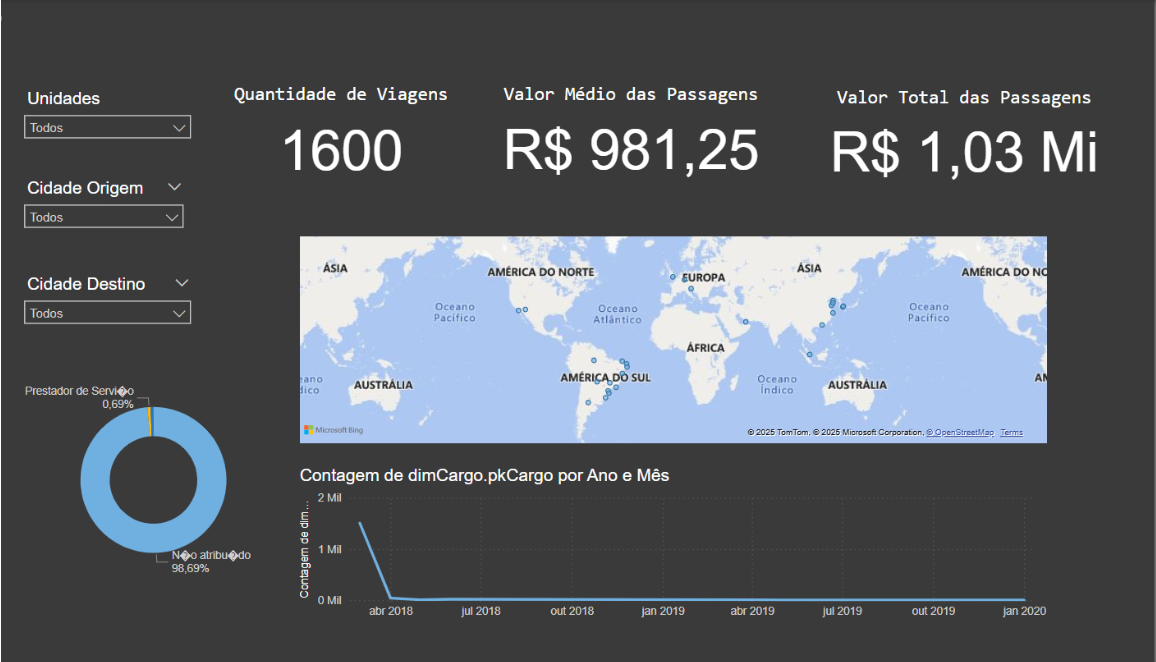

The page's visual inventory and layout, read from the dashboard file:
{"tool":"powerbi","page":{"name":"Página 1","canvas":[1280,720],"ordinal":0},"visuals":[{"type":"card","title":"Valor Total das Passagens","fields":{"Values":["Sum(fatoValorPassagem.Valor de Passagem Aerea (R$))"]},"box":[895.4,93.9,358.7,108],"z":0},{"type":"card","title":"Quantidade de Viagens","fields":{"Values":["CountNonNull(fatoValorPassagem.dimCargo.pkCargo)"]},"box":[233.8,90.3,335.6,111.6],"z":1000},{"type":"slicer","fields":{"Values":["dimUnidade.unidade"]},"box":[49.6,90.3,200.1,70.8],"z":2000},{"type":"actionButton","box":[0,0,100,40],"z":3000},{"type":"card","title":"Valor Médio das Passagens","fields":{"Values":["Avg(fatoValorPassagem.Valor de Passagem Aerea (R$))"]},"box":[544.6,90.3,341,108.9],"z":4000},{"type":"slicer","fields":{"Values":["dimCidade.cidade"]},"box":[49.6,186.9,192.2,77],"z":5000},{"type":"slicer","fields":{"Values":["dimCidade (2).cidade"]},"box":[49.6,290.5,200.1,151.4],"z":6000},{"type":"map","fields":{"Category":["dimCidade (2).cidade","dimCidade.cidade"]},"box":[351.6,249.7,816.5,233.8],"z":7000},{"type":"lineChart","fields":{"Y":["CountNonNull(fatoValorPassagem.dimCargo.pkCargo)"],"Category":["dimData (2).data.Variation.Hierarquia de datas.Ano","dimData (2).data.Variation.Hierarquia de datas.Mês"]},"box":[351.6,503,816.5,173.6],"z":8000},{"type":"donutChart","fields":{"Y":["CountNonNull(fatoValorPassagem.dimCargo.pkCargo)"],"Category":["dimTipo.subtipo"]},"box":[49.6,403.8,299.3,230.3],"z":9000}]}

Visuals, with their boxes in screenshot pixels (x1, y1, x2, y2), scaled from the page's 1280x720 canvas onto the 1156x662 screenshot:
"Valor Total das Passagens" card: (left=809, top=86, right=1133, bottom=186)
"Quantidade de Viagens" card: (left=211, top=83, right=514, bottom=186)
slicer - dimUnidade.unidade: (left=45, top=83, right=226, bottom=148)
actionButton: (left=0, top=0, right=90, bottom=37)
"Valor Médio das Passagens" card: (left=492, top=83, right=800, bottom=183)
slicer - dimCidade.cidade: (left=45, top=172, right=218, bottom=243)
slicer - dimCidade (2).cidade: (left=45, top=267, right=226, bottom=406)
map - dimCidade (2).cidade x dimCidade.cidade: (left=318, top=230, right=1055, bottom=445)
lineChart - CountNonNull(fatoValorPassagem.dimCargo.pkCargo) x dimData (2).data.Variation.Hierarquia de datas.Ano: (left=318, top=462, right=1055, bottom=622)
donutChart - CountNonNull(fatoValorPassagem.dimCargo.pkCargo) x dimTipo.subtipo: (left=45, top=371, right=315, bottom=583)
